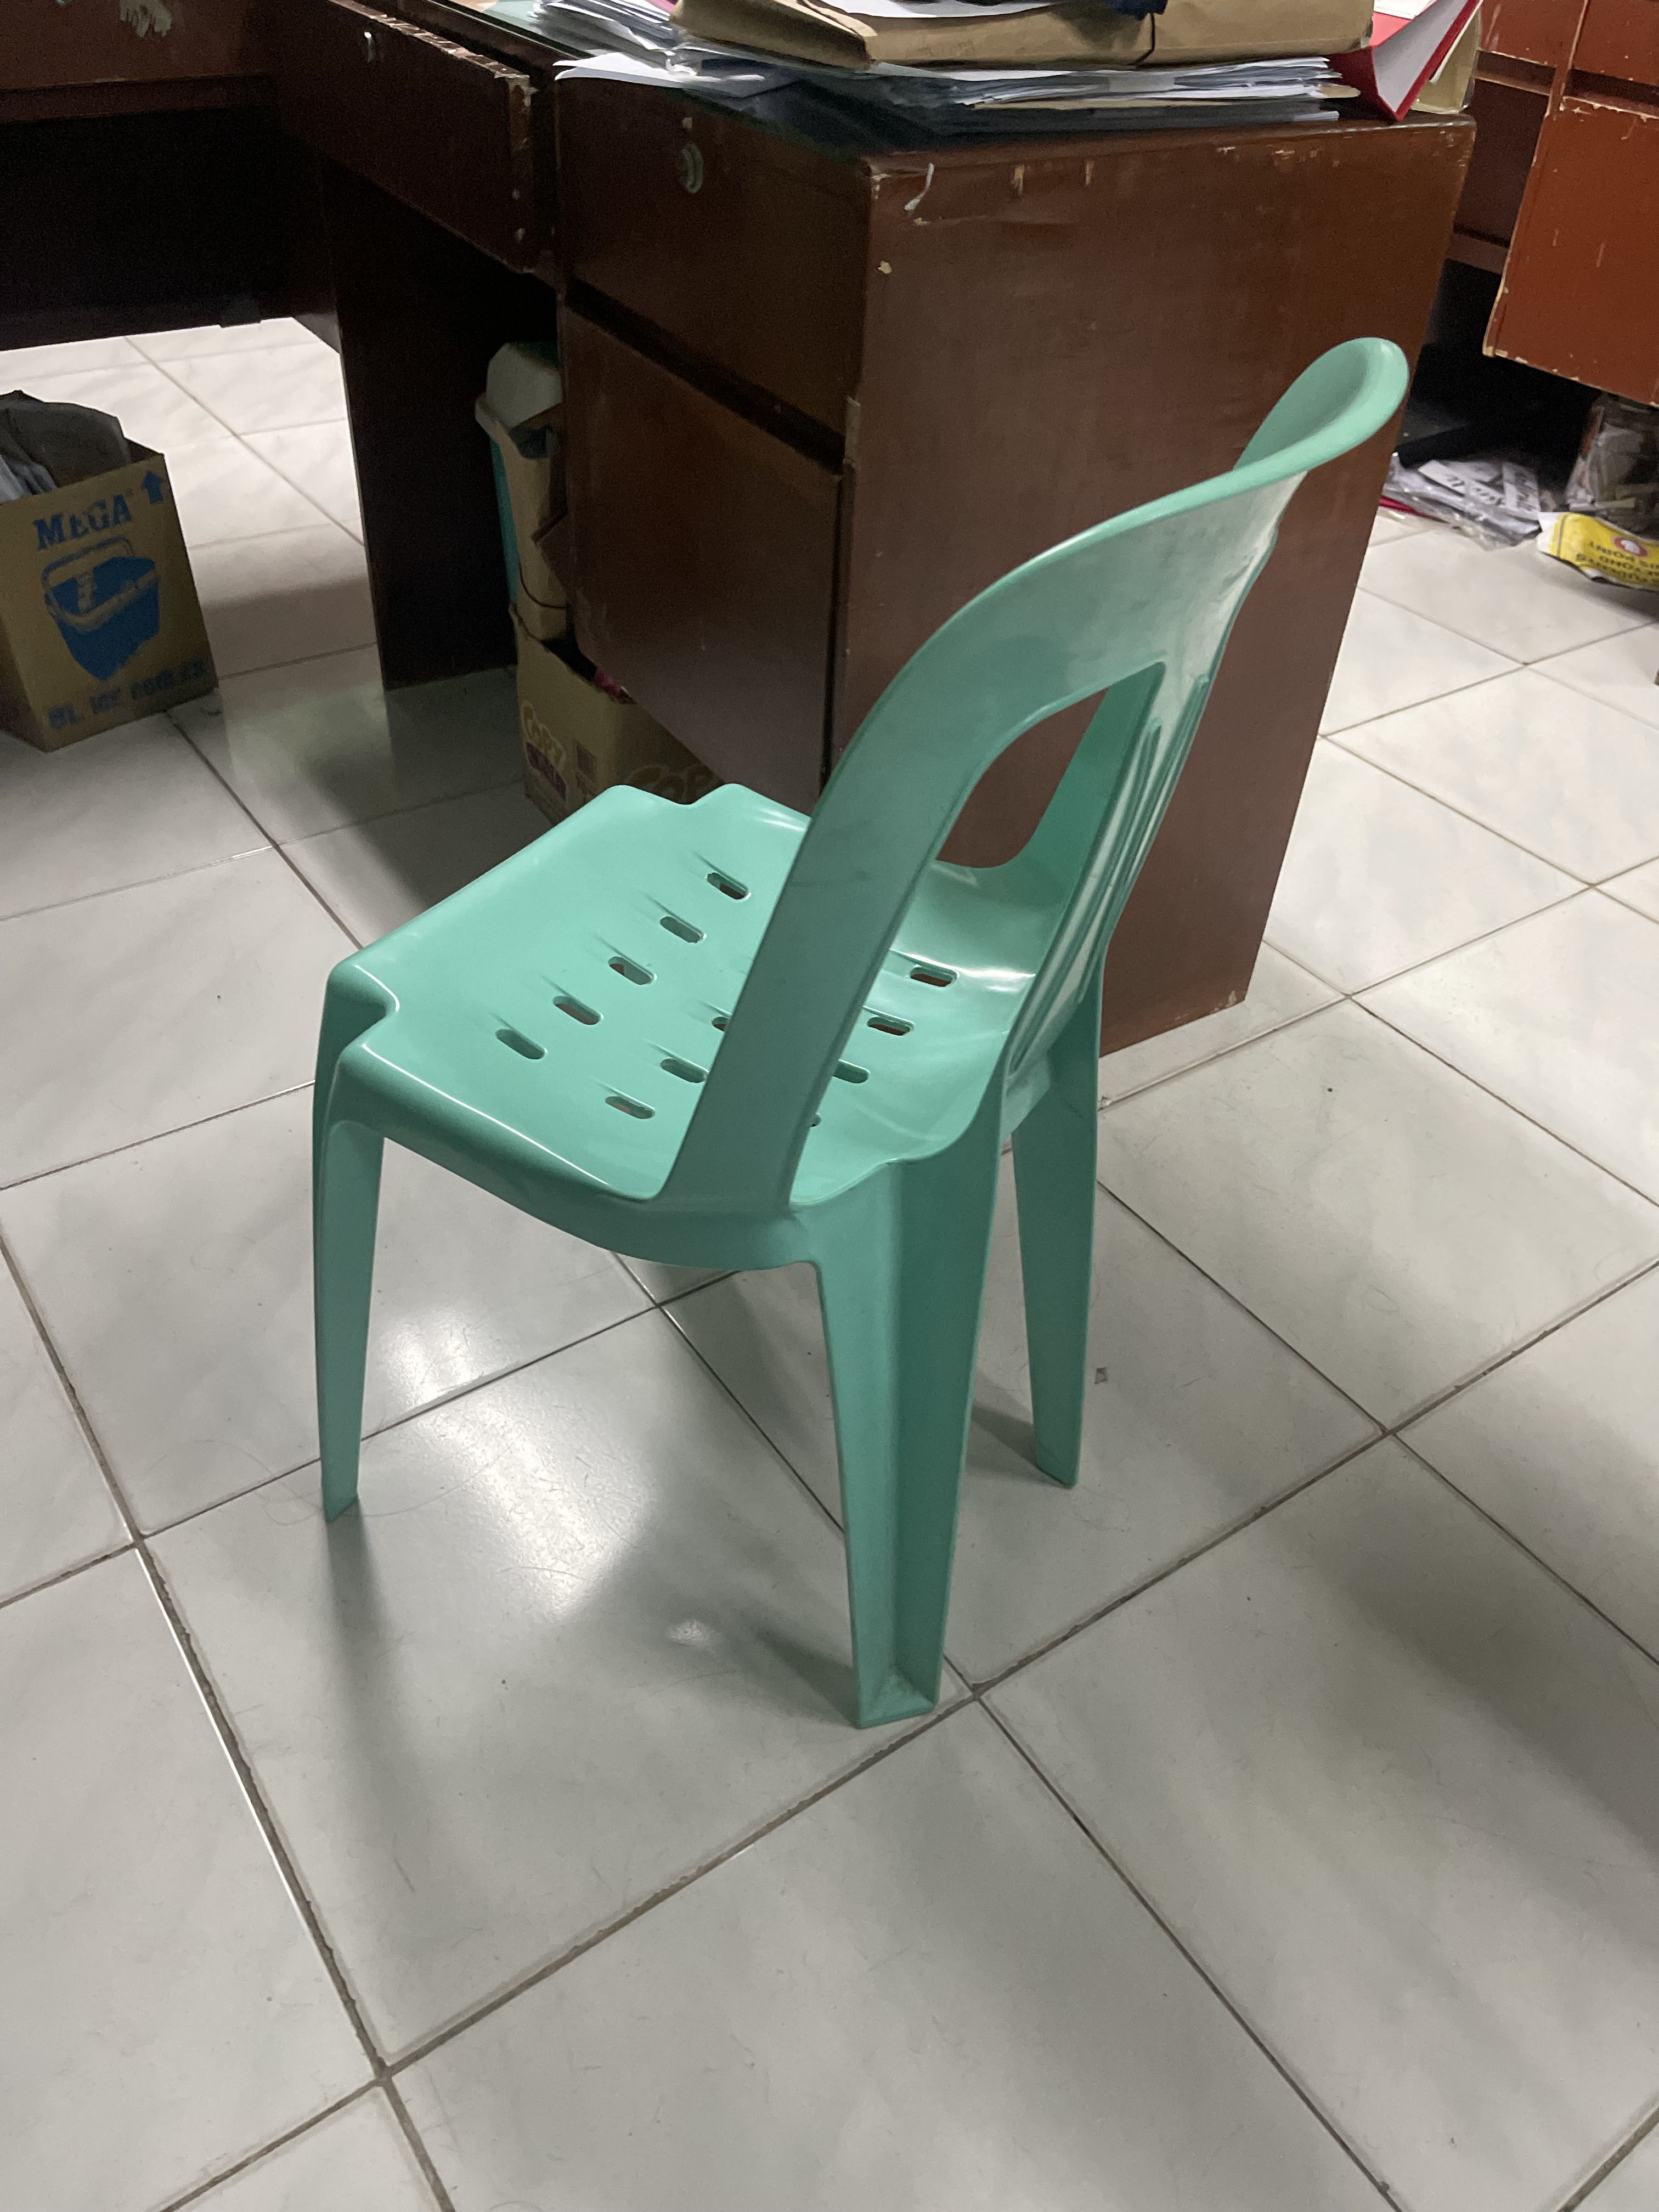chair2: (298, 331, 1417, 1738)
